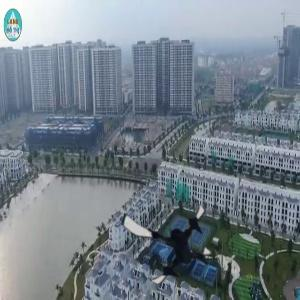drone: (119, 188, 220, 289)
